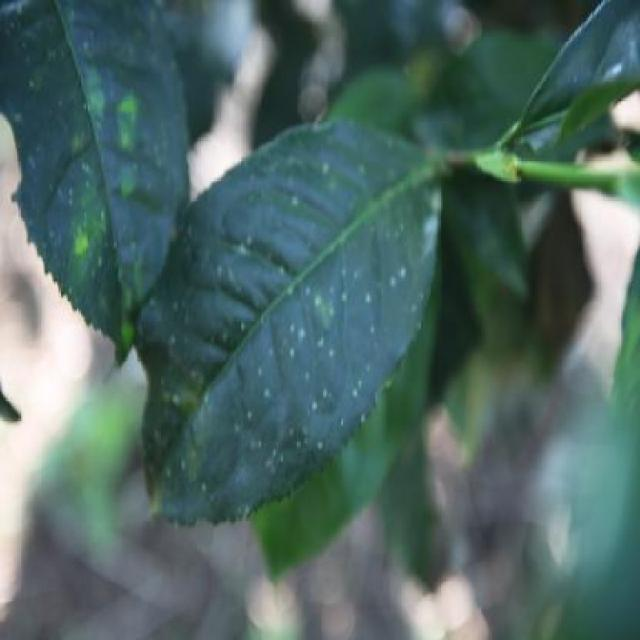White spot of tea: (120, 129, 435, 529)
